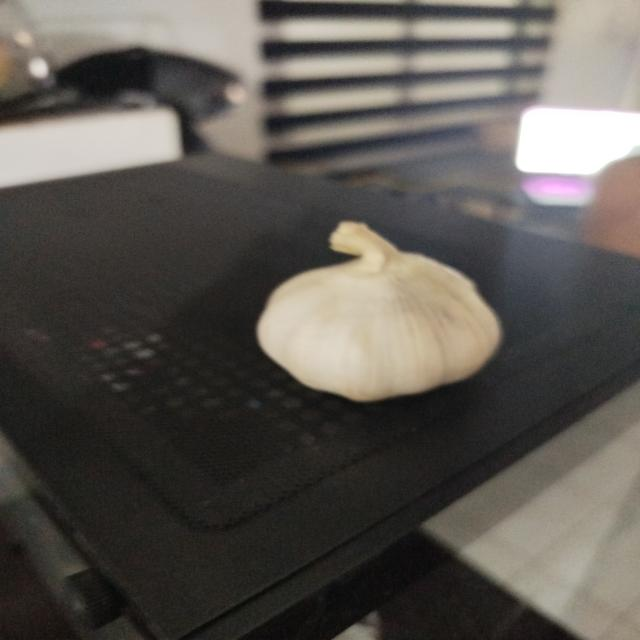garlic: (255, 220, 503, 403)
